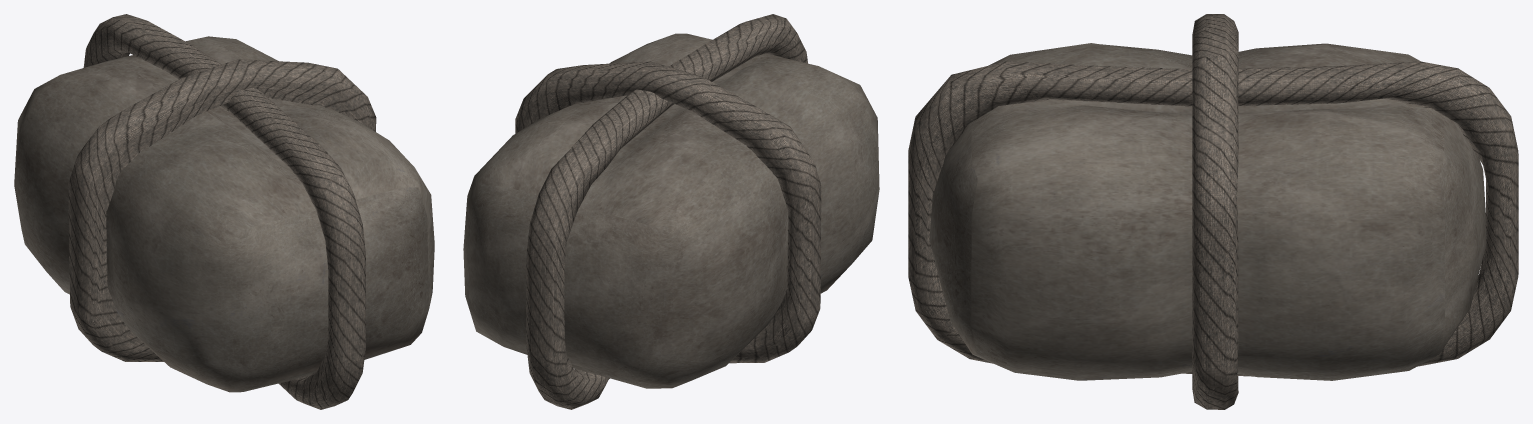
File: SM_Ship_Cargo_01.fbx
3 views of the same model, side by side, from view 1: azimuth 30°, elevation 25°; view 2: azimuth 150°, elevation 25°; view 3: azimuth 270°, elevation 25° (orthographic). The views are drawn at different scales.
Parts seen in each view (by area): view 1: SM_Ship_Cargo_01_LOD0; view 2: SM_Ship_Cargo_01_LOD0; view 3: SM_Ship_Cargo_01_LOD0.
Boxes of the visible parts, box(x1,y1,x2,y2) form: SM_Ship_Cargo_01_LOD0: box(14, 14, 434, 409); SM_Ship_Cargo_01_LOD0: box(463, 14, 879, 409); SM_Ship_Cargo_01_LOD0: box(908, 14, 1518, 409).
Size of the model in its own units: 31.67 by 47.72 by 29.17.
